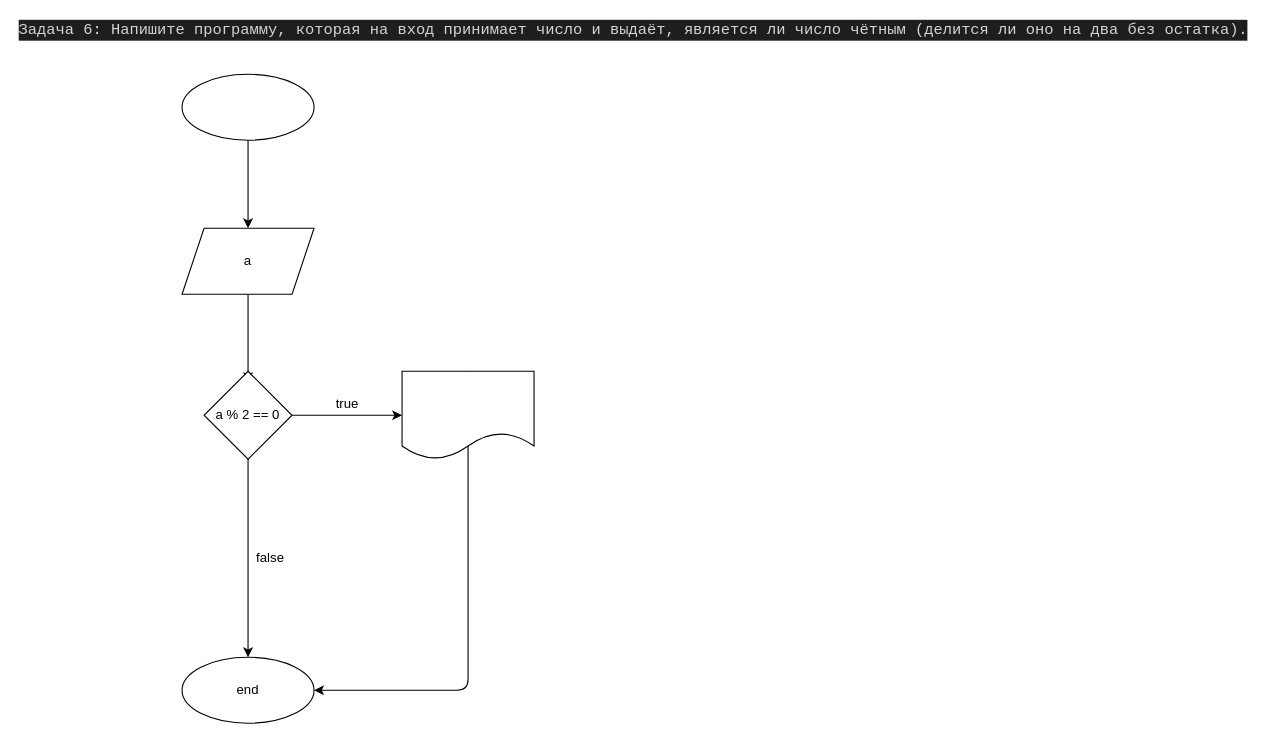
Image size: 1266x743. Some labels were removed from this diagram. The box of each missing label's shape, as (x1, y1, x2, y2) in pixels:
start: (181, 73, 314, 140)
четное: (401, 370, 534, 459)
